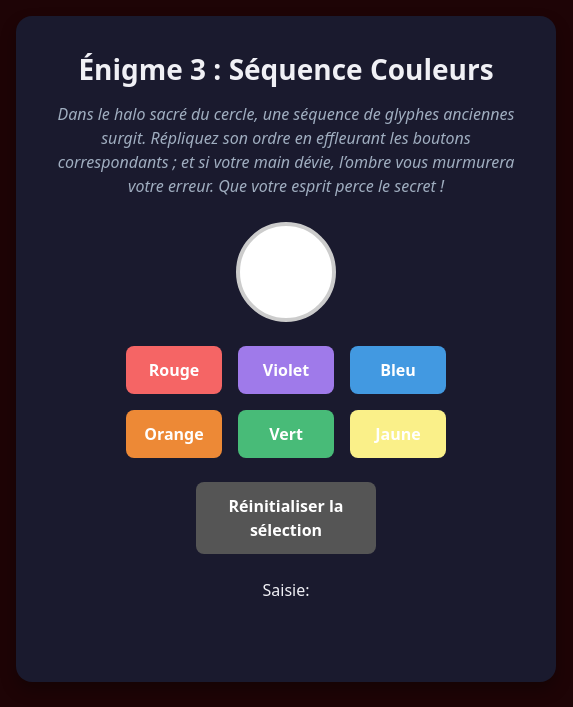
Test: ColorButton › réinitialise la sélection
This screenshot has width=573, height=707.
Click the button "Vert": (286, 434) [238,410,334,458]
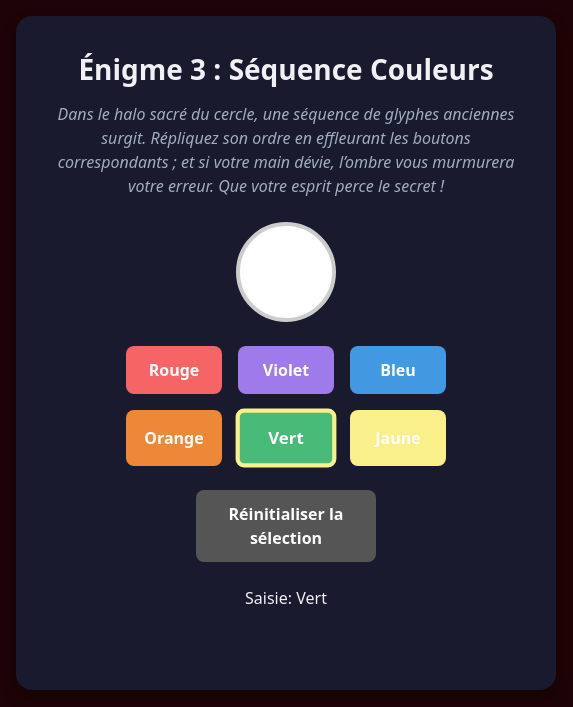
Click the button "Réinitialiser la sélection": (286, 526) [196,490,376,562]
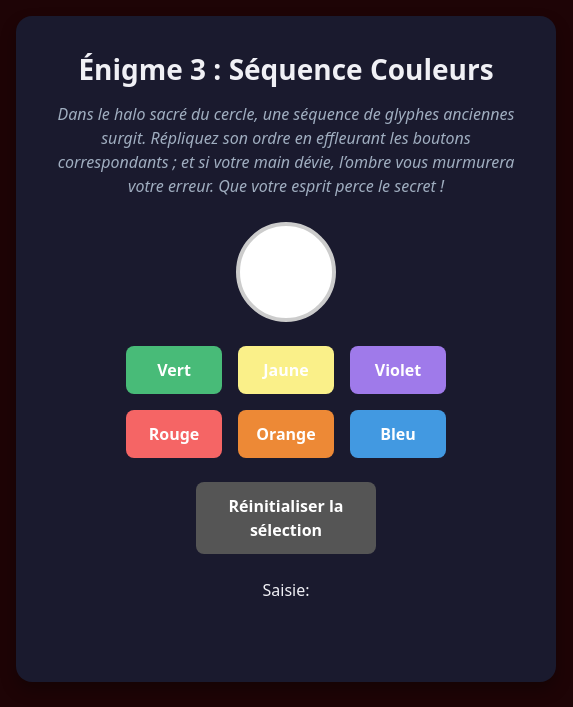
Result: the text "Saisie:" is shown at [262,579,310,601]
